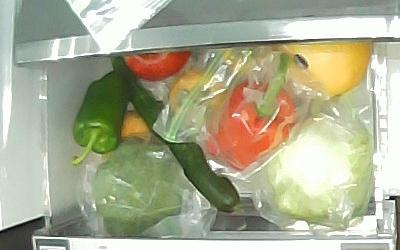apple: (123, 55, 191, 81)
broccoli_vinyl: (93, 139, 182, 238)
cucumber: (109, 58, 247, 217)
grapefruit: (279, 45, 374, 100)
lettuce_vinyl: (266, 112, 369, 227)
paprika: (70, 71, 132, 163)
paprika_vinyl: (207, 50, 297, 172)
persimmon_vinyl: (167, 70, 227, 117), (218, 45, 276, 80)
